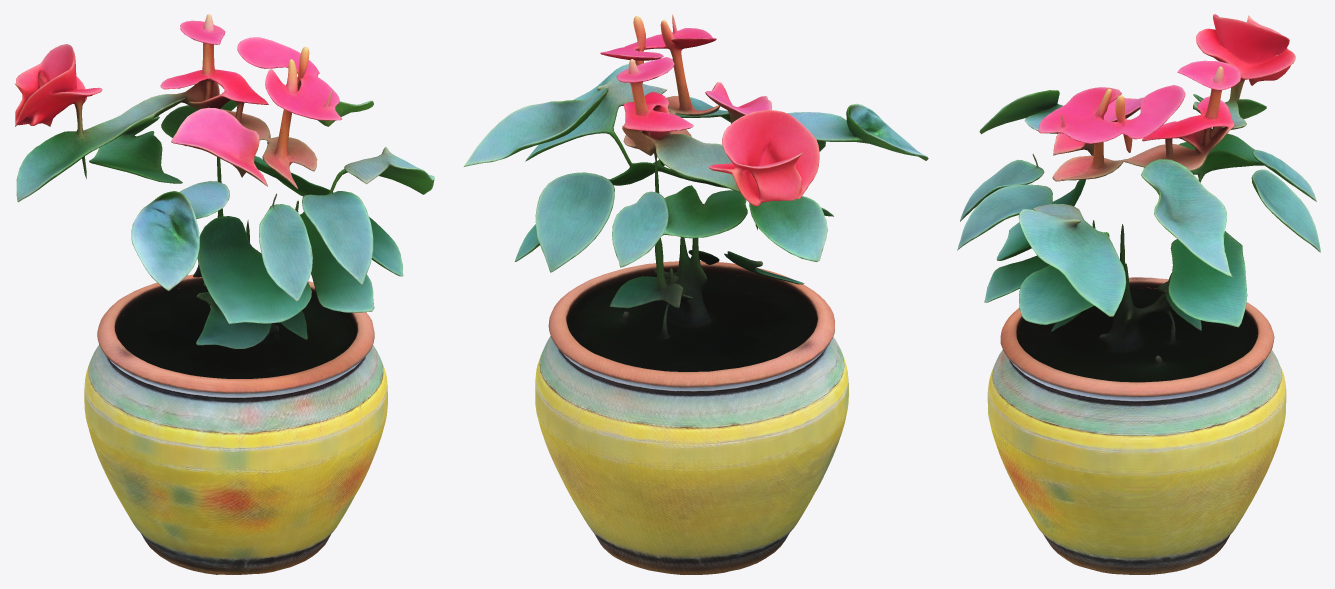
The model's file is Flower.glb.
3 renders of one model, left to right at view 1: azimuth 30°, elevation 25°; view 2: azimuth 150°, elevation 25°; view 3: azimuth 270°, elevation 25°, orthographic. The views are drawn at different scales.
Visible parts, largest first — view 1: Mesh; view 2: Mesh; view 3: Mesh.
Boxes of the visible parts, x1,y1,x2,y2 form: Mesh: (14,14,434,574); Mesh: (464,14,928,574); Mesh: (957,14,1320,574).
Size of the model in its own units: 1.39 by 1.89 by 1.3.
1 material, 1 textured.
